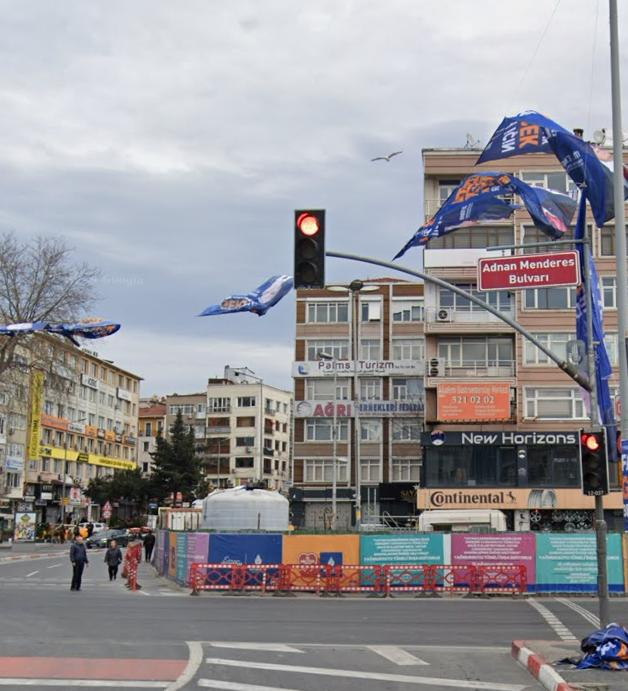redlight: (296, 210, 325, 289), (578, 430, 610, 495)
